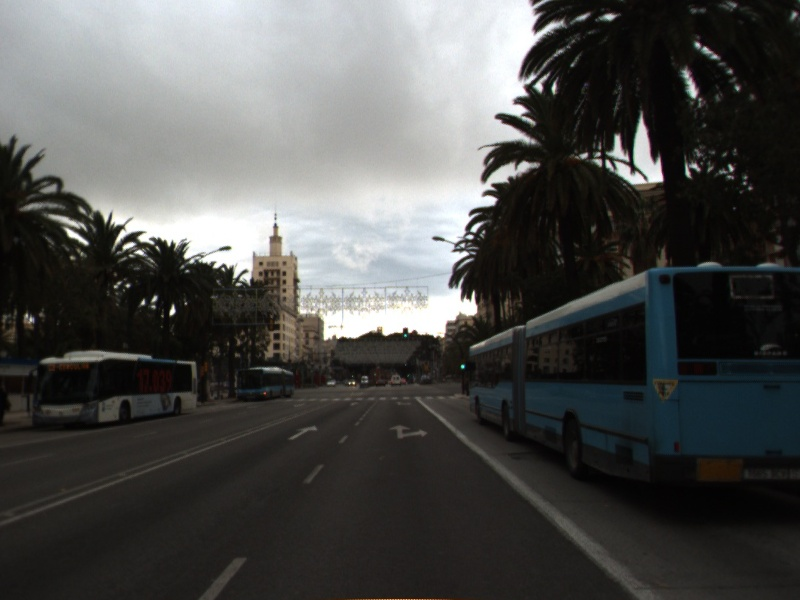STRAIGHT: (286, 423, 320, 442)
STRAIGHT_RIGHT: (387, 423, 429, 441)
